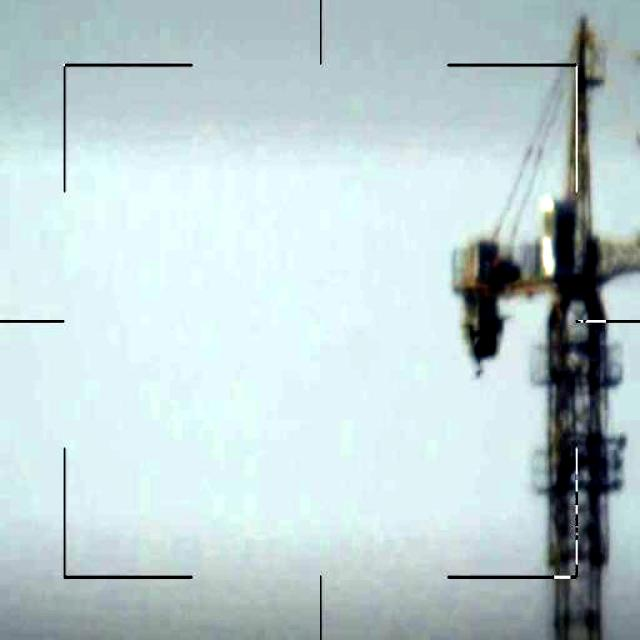bird: (458, 312, 506, 380)
